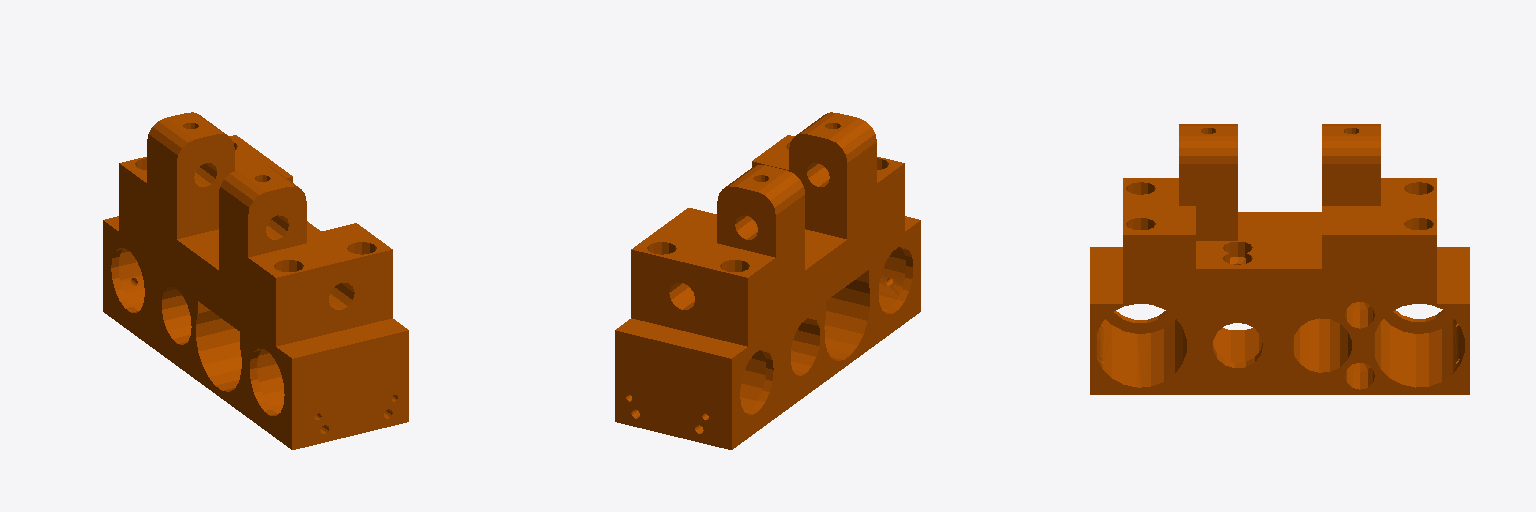
Rendered from axial_translation_mirror.OBJ.
3 views of the same model, side by side, from view 1: azimuth 30°, elevation 25°; view 2: azimuth 150°, elevation 25°; view 3: azimuth 270°, elevation 25° (orthographic).
Visible parts, largest first — view 1: /ambf/env/neuro_robot/axial_translation_mirror_axial_translation; view 2: /ambf/env/neuro_robot/axial_translation_mirror_axial_translation; view 3: /ambf/env/neuro_robot/axial_translation_mirror_axial_translation.
Boxes of the visible parts, box(x1,y1,x2,y2) form: /ambf/env/neuro_robot/axial_translation_mirror_axial_translation: box(103, 112, 408, 449); /ambf/env/neuro_robot/axial_translation_mirror_axial_translation: box(615, 112, 920, 449); /ambf/env/neuro_robot/axial_translation_mirror_axial_translation: box(1090, 124, 1469, 394).
Size of the model in its own units: 0.032 by 0.058 by 0.09.